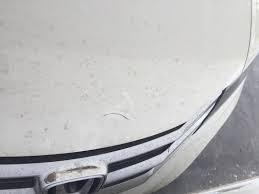bonnet-dent: (0, 4, 232, 178)
